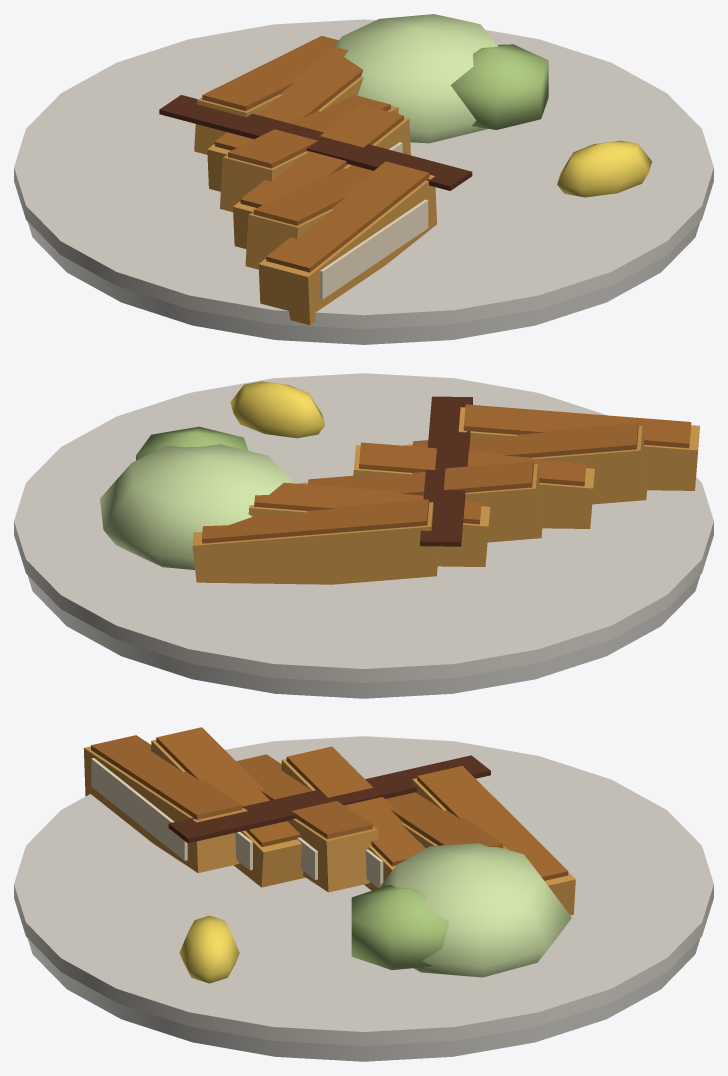
The model's file is act2_tonkatsu_plate.glb.
3 views of the same model, one above another, from view 1: azimuth 30°, elevation 25°; view 2: azimuth 150°, elevation 25°; view 3: azimuth 270°, elevation 25° (orthographic).
Parts seen in each view (by area): view 1: act2_tonkatsu_plate_plate_rim, act2_tonkatsu_plate_cutlet_d_detail, act2_tonkatsu_plate_cutlet, act2_tonkatsu_plate_cabbage, act2_tonkatsu_plate_plate, act2_tonkatsu_plate_cabbage_d, act2_tonkatsu_plate_sauce_fine, act2_tonkatsu_plate_lemon, act2_tonkatsu_plate_cutlet_in_fine; view 2: act2_tonkatsu_plate_plate_rim, act2_tonkatsu_plate_cutlet, act2_tonkatsu_plate_cutlet_d_detail, act2_tonkatsu_plate_cabbage, act2_tonkatsu_plate_plate, act2_tonkatsu_plate_sauce_fine, act2_tonkatsu_plate_lemon, act2_tonkatsu_plate_cabbage_d; view 3: act2_tonkatsu_plate_plate_rim, act2_tonkatsu_plate_cutlet_d_detail, act2_tonkatsu_plate_cabbage, act2_tonkatsu_plate_cutlet, act2_tonkatsu_plate_plate, act2_tonkatsu_plate_cabbage_d, act2_tonkatsu_plate_sauce_fine, act2_tonkatsu_plate_cutlet_in_fine, act2_tonkatsu_plate_lemon.
Part boxes in pixels (bbox=[...]): act2_tonkatsu_plate_plate_rim: bbox=[14, 19, 713, 329]; act2_tonkatsu_plate_cutlet_d_detail: bbox=[202, 36, 429, 272]; act2_tonkatsu_plate_cutlet: bbox=[194, 76, 436, 325]; act2_tonkatsu_plate_cabbage: bbox=[333, 14, 498, 143]; act2_tonkatsu_plate_plate: bbox=[28, 222, 699, 344]; act2_tonkatsu_plate_cabbage_d: bbox=[450, 44, 548, 129]; act2_tonkatsu_plate_sauce_fine: bbox=[159, 95, 472, 190]; act2_tonkatsu_plate_lemon: bbox=[557, 140, 651, 197]; act2_tonkatsu_plate_cutlet_in_fine: bbox=[320, 142, 428, 299]; act2_tonkatsu_plate_plate_rim: bbox=[14, 373, 713, 682]; act2_tonkatsu_plate_cutlet: bbox=[192, 407, 699, 584]; act2_tonkatsu_plate_cutlet_d_detail: bbox=[202, 404, 691, 543]; act2_tonkatsu_plate_cabbage: bbox=[100, 444, 293, 569]; act2_tonkatsu_plate_plate: bbox=[27, 575, 700, 698]; act2_tonkatsu_plate_sauce_fine: bbox=[420, 396, 472, 546]; act2_tonkatsu_plate_lemon: bbox=[230, 381, 325, 438]; act2_tonkatsu_plate_cabbage_d: bbox=[136, 426, 248, 460]; act2_tonkatsu_plate_plate_rim: bbox=[14, 736, 713, 1045]; act2_tonkatsu_plate_cutlet_d_detail: bbox=[91, 727, 568, 880]; act2_tonkatsu_plate_cabbage: bbox=[378, 843, 571, 977]; act2_tonkatsu_plate_cutlet: bbox=[83, 739, 575, 915]; act2_tonkatsu_plate_plate: bbox=[27, 938, 700, 1061]; act2_tonkatsu_plate_cabbage_d: bbox=[351, 884, 448, 970]; act2_tonkatsu_plate_sauce_fine: bbox=[168, 755, 490, 843]; act2_tonkatsu_plate_cutlet_in_fine: bbox=[91, 758, 384, 887]; act2_tonkatsu_plate_lemon: bbox=[179, 915, 239, 983].
Bounding box in the file's own units: 0.204 × 0.0407 × 0.204.
